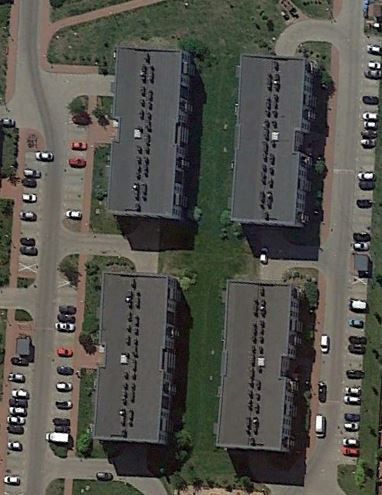block of flats: (86, 270, 186, 447), (224, 51, 321, 225), (210, 278, 306, 452), (103, 45, 196, 221)
